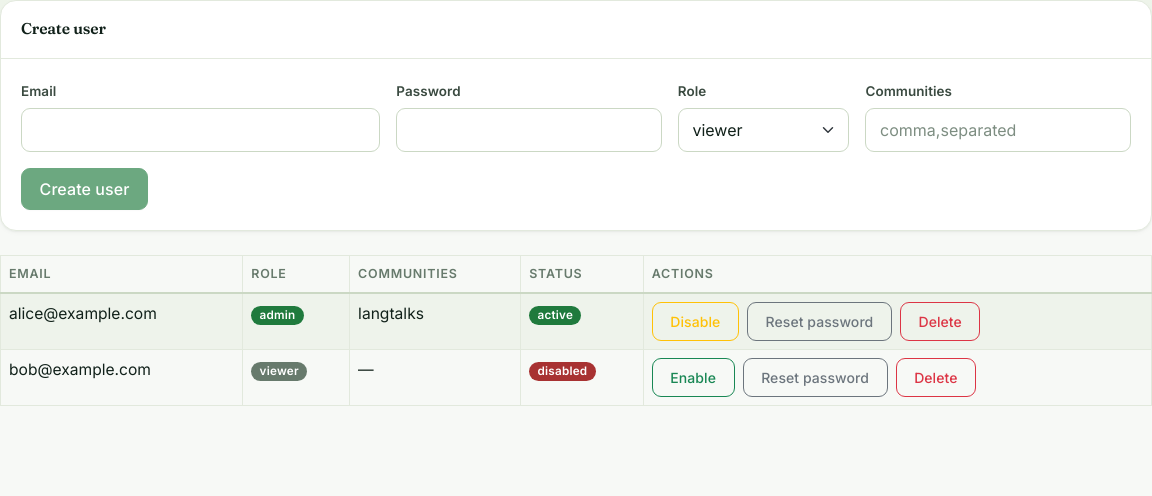
Test: create-user 409 surfaces the duplicate email error inline
expect the row with test id "user-row-u1" is shown: met, box x1=0 y1=293 x2=1151 y2=349
Type "alice@example.com" into the field labelled "Email". click: (201, 130)
box: x1=21 y1=108 x2=380 y2=152
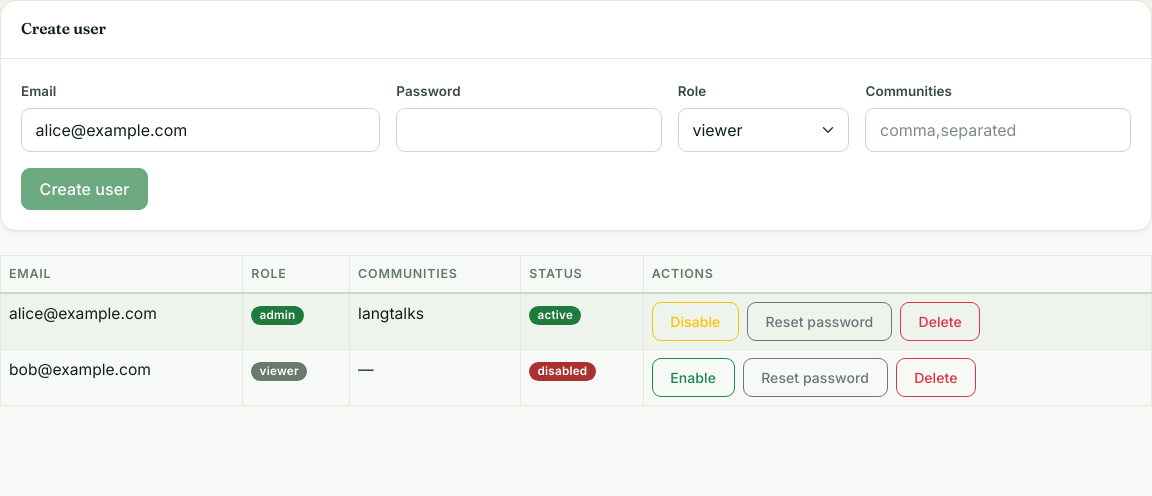
Type "secret123" into the password field labelled "Password". click: (529, 130)
box: x1=396 y1=108 x2=662 y2=152
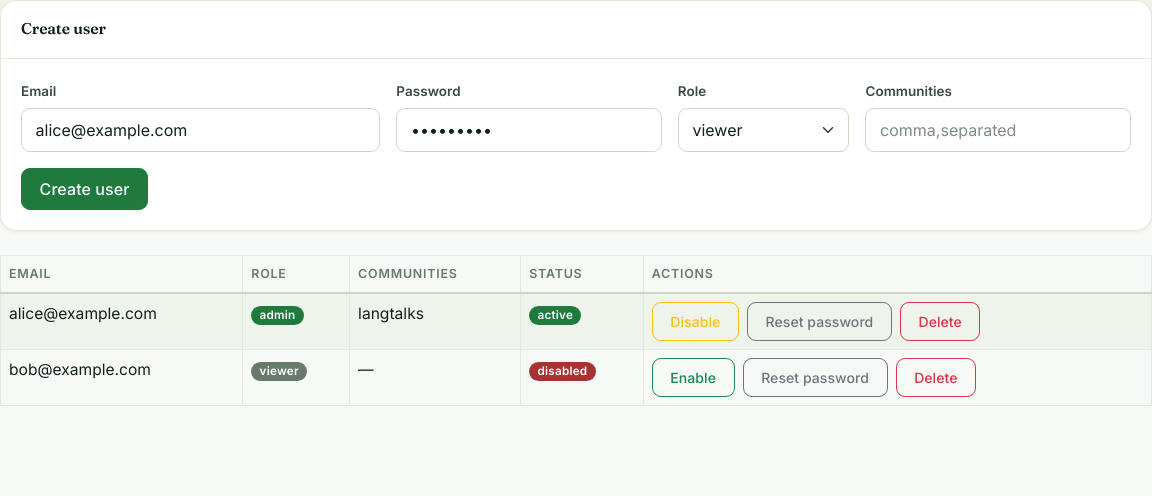
Click the button "Create user". click: (85, 189)
box: x1=21 y1=168 x2=148 y2=210
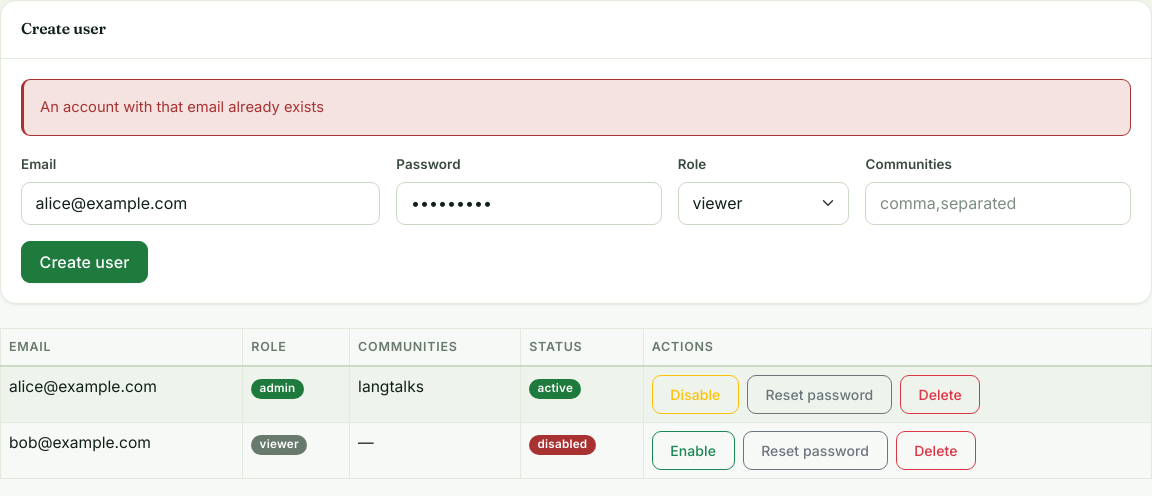
expect the message with test id "create-user-error" shows "already exists": met, box x1=40 y1=98 x2=324 y2=116
